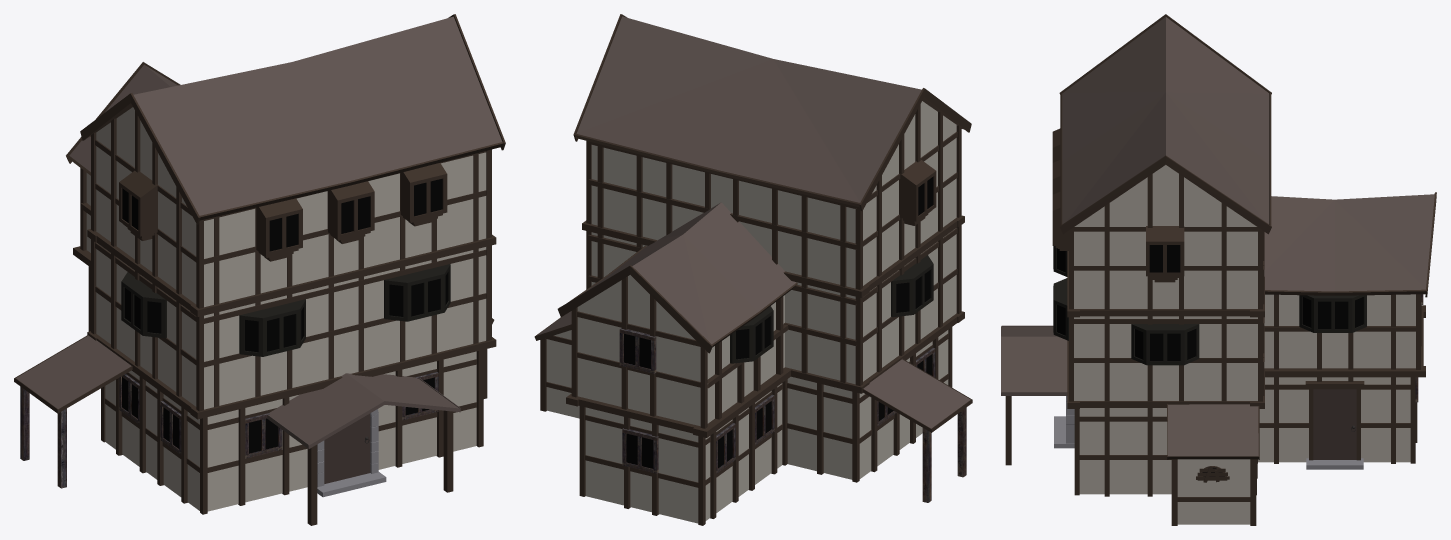
File: House_Cap_3.glb
3 views of the same model, side by side, from view 1: azimuth 30°, elevation 25°; view 2: azimuth 150°, elevation 25°; view 3: azimuth 270°, elevation 25° (orthographic). The views are drawn at different scales.
Parts seen in each view (by area): view 1: House_Cap_3; view 2: House_Cap_3; view 3: House_Cap_3.
Boxes of the visible parts, box(x1,y1,x2,y2) form: House_Cap_3: box(14, 14, 505, 525); House_Cap_3: box(534, 14, 972, 525); House_Cap_3: box(1001, 14, 1436, 525).
Bounding box in the file's own units: 8.53 × 7.55 × 8.41.
Materials: 27 (27 with a texture image).
